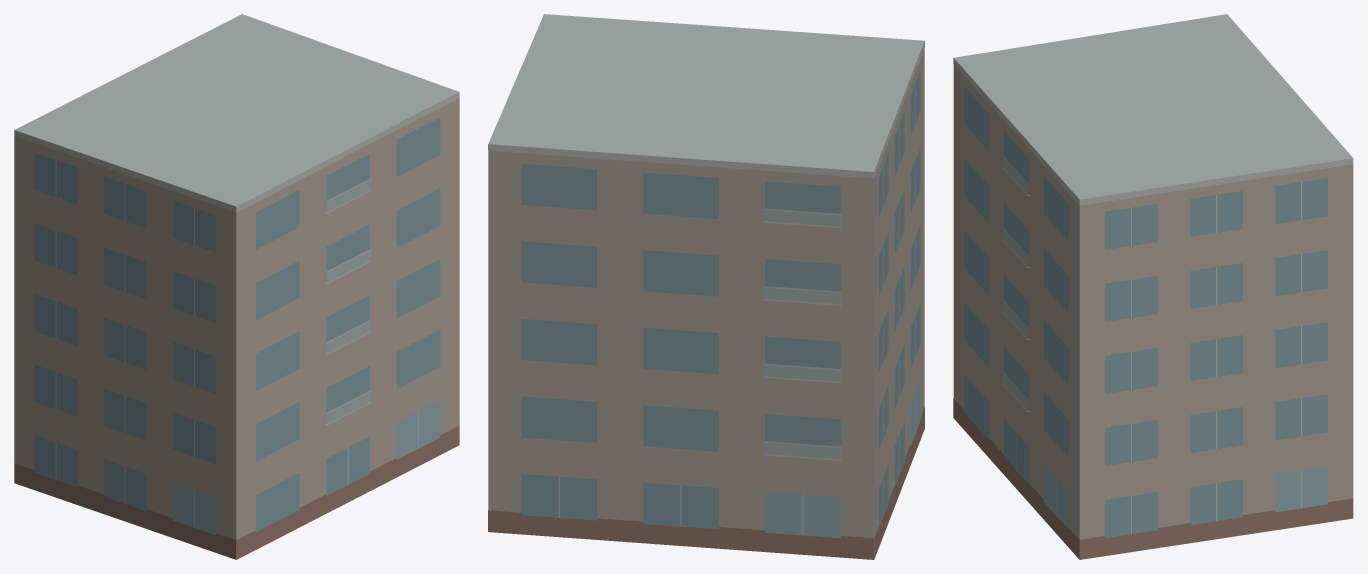
The model's file is survey-upis-32859545.glb.
The picture shows the model from 3 angles, left to right: view 1: azimuth 30°, elevation 25°; view 2: azimuth 150°, elevation 25°; view 3: azimuth 270°, elevation 25°; orthographic projection. The views are drawn at different scales.
Parts seen in each view (by area): view 1: survey-upis-32859545.tmp; view 2: survey-upis-32859545.tmp; view 3: survey-upis-32859545.tmp.
Part boxes in pixels (x1,y1,x2,y2): survey-upis-32859545.tmp: (14,14,459,559); survey-upis-32859545.tmp: (488,14,924,559); survey-upis-32859545.tmp: (953,14,1353,559).
Size of the model in its own units: 15.92 by 14.4 by 14.49.
